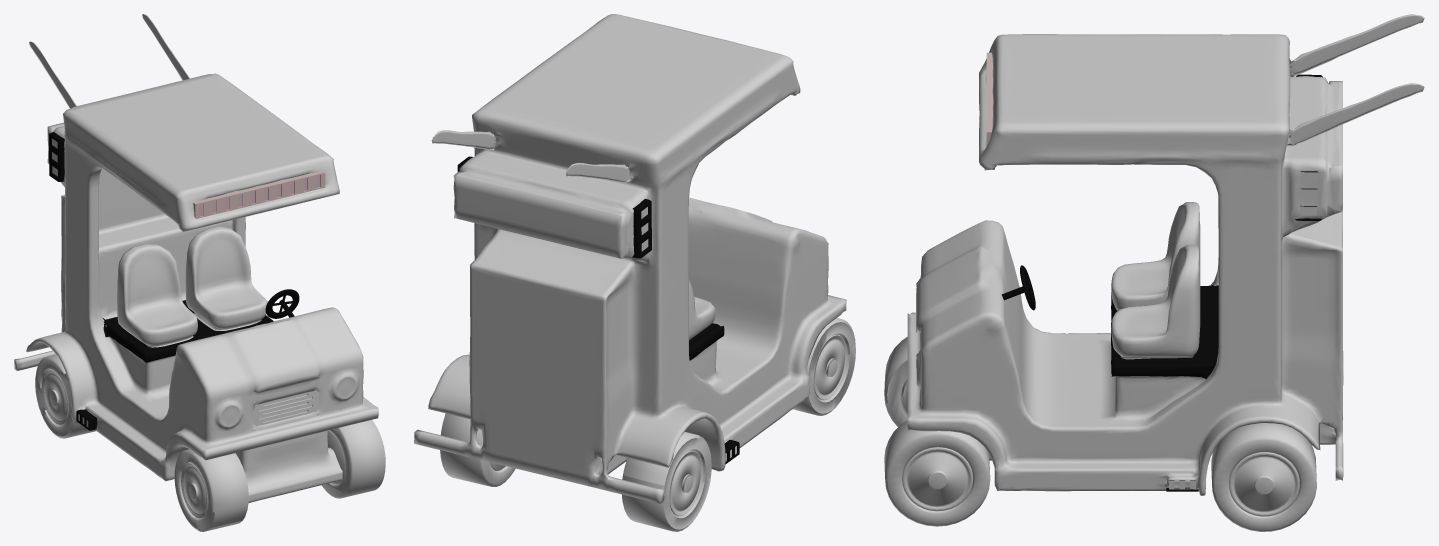
The model's file is Sin_nombre.obj.
3 renders of one model, left to right at view 1: azimuth 30°, elevation 25°; view 2: azimuth 150°, elevation 25°; view 3: azimuth 270°, elevation 25°, orthographic. The views are drawn at different scales.
Visible parts, largest first — view 1: Airport_buggy_body.002, Wheel_Bus.003, Wheel_Bus.001, Wheel_Bus.008, Top_lights.002, Ventilation_Roster_Metal_JJ.002, Lights_right_top.002, Steer.002, model.002; view 2: Airport_buggy_body.002, Wheel_Bus.008, Wheel_Bus.003, Wheel_Bus.002, Lights_right_top.002; view 3: Airport_buggy_body.002, Wheel_Bus.002, Wheel_Bus.001, Wheel_Bus.003.
Part boxes in pixels (box(x1,y1,x2,y2)): Airport_buggy_body.002: box(14, 14, 378, 502); Wheel_Bus.003: box(174, 449, 248, 531); Wheel_Bus.001: box(322, 420, 385, 498); Wheel_Bus.008: box(35, 354, 95, 438); Top_lights.002: box(193, 171, 325, 218); Ventilation_Roster_Metal_JJ.002: box(252, 386, 319, 430); Lights_right_top.002: box(49, 132, 64, 181); Steer.002: box(265, 289, 299, 318); model.002: box(221, 377, 355, 425); Airport_buggy_body.002: box(414, 14, 846, 503); Wheel_Bus.008: box(621, 432, 711, 531); Wheel_Bus.003: box(793, 318, 855, 415); Wheel_Bus.002: box(440, 413, 515, 486); Lights_right_top.002: box(632, 198, 651, 258); Airport_buggy_body.002: box(907, 14, 1424, 495); Wheel_Bus.002: box(1211, 423, 1316, 531); Wheel_Bus.001: box(884, 420, 990, 526); Wheel_Bus.003: box(884, 337, 907, 426).
Bounding box in the file's own units: 1.05 × 1.65 × 1.89.
